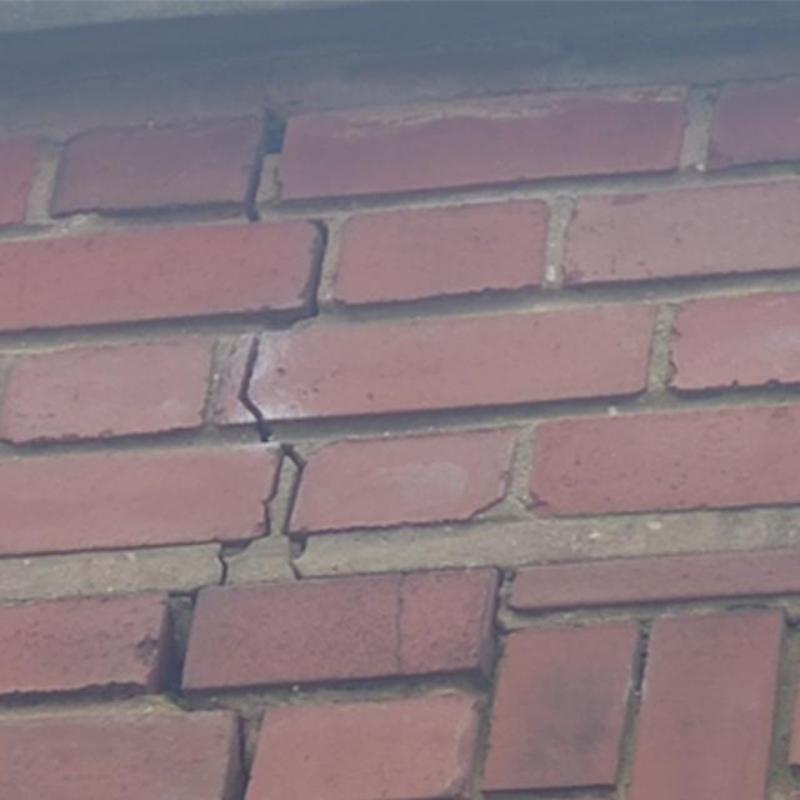crack: (160, 604, 249, 784), (217, 443, 306, 587), (259, 218, 332, 331), (243, 109, 287, 221), (236, 335, 274, 443), (397, 574, 406, 675)
